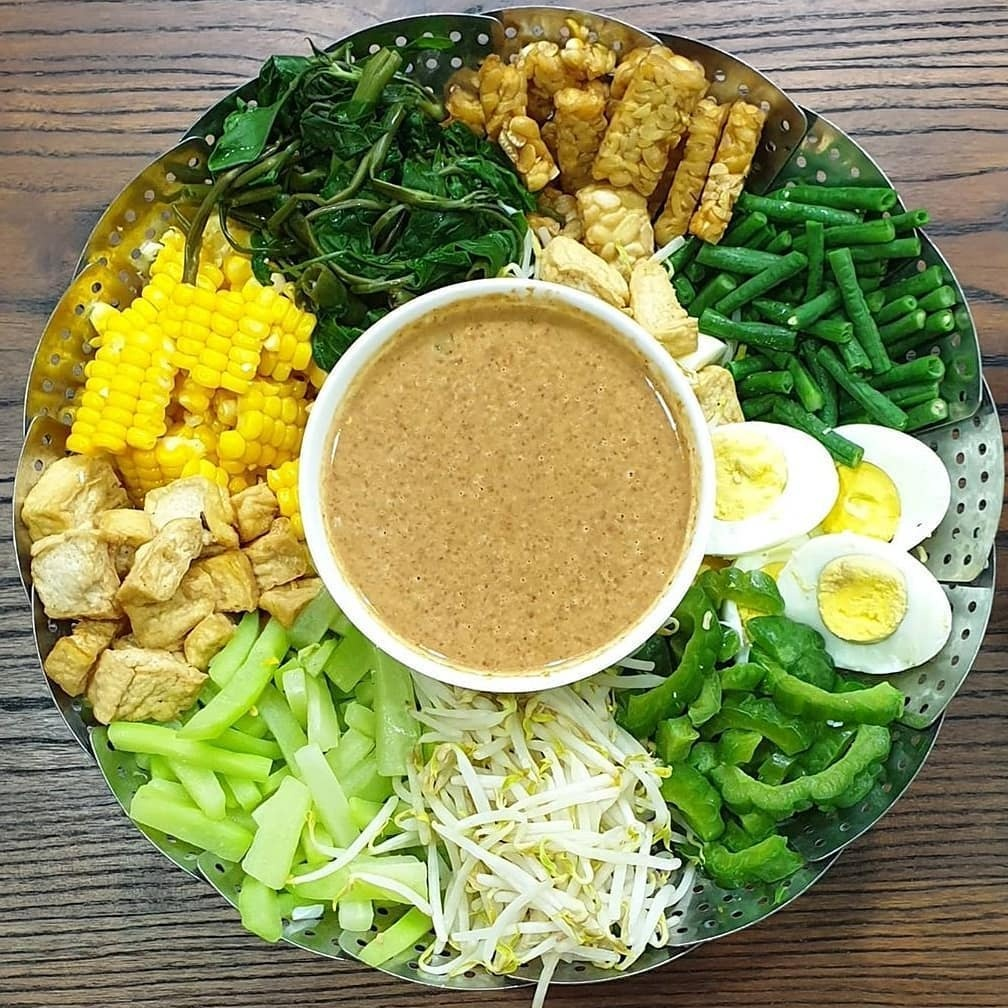pecel: (114, 89, 959, 951)
